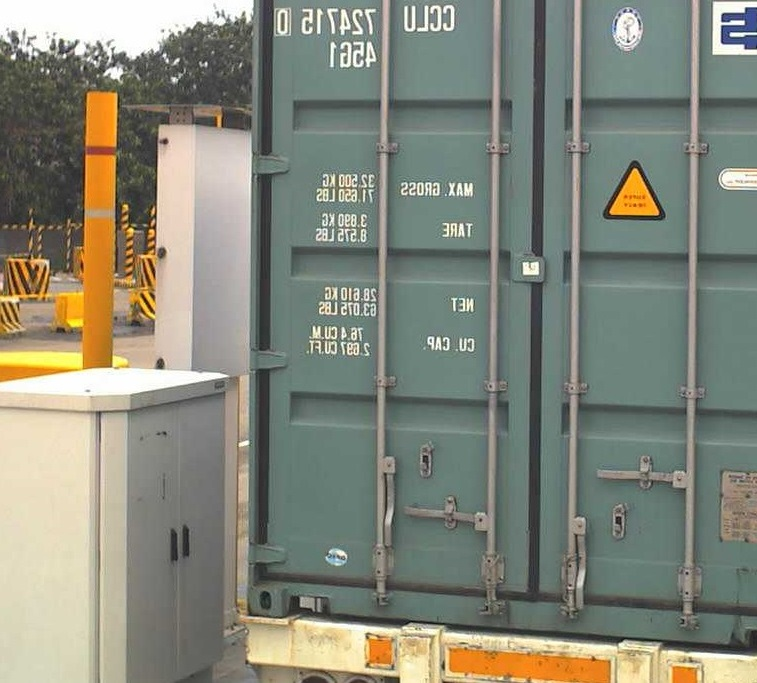container_door: (246, 1, 757, 650)
